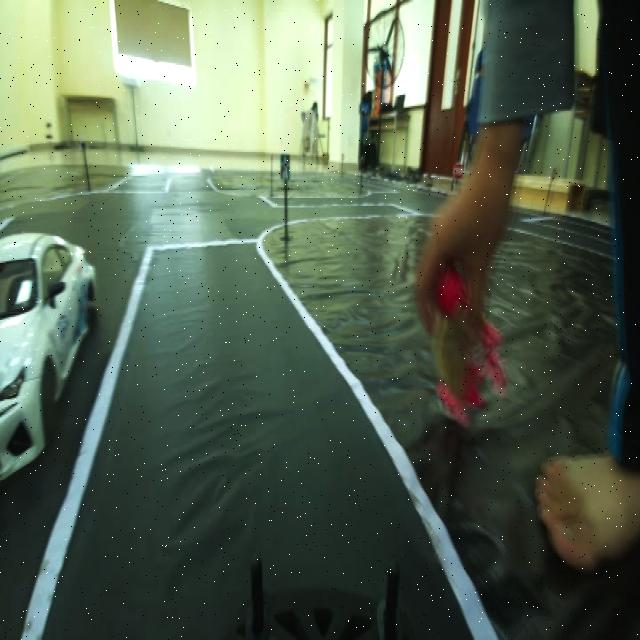car: (1, 193, 90, 472)
